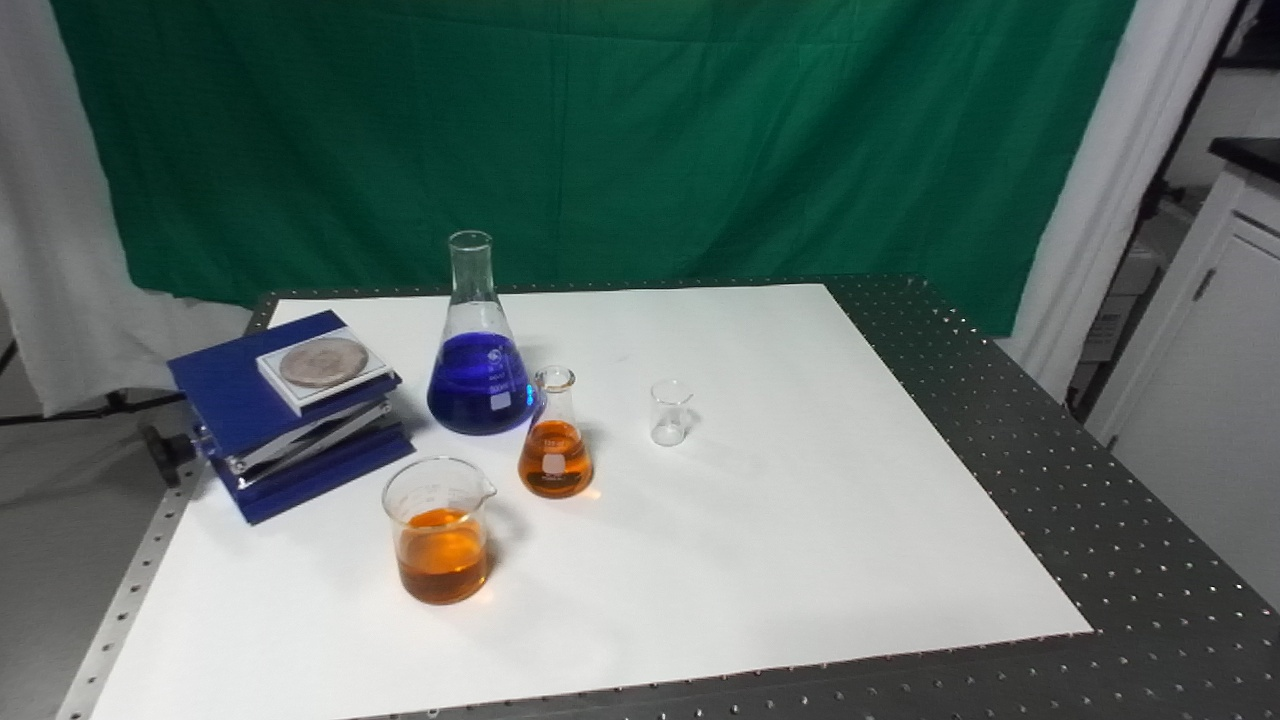glass: (423, 228, 542, 443), (379, 453, 502, 608), (514, 361, 597, 503), (644, 376, 696, 451)
plate: (252, 322, 398, 420)
